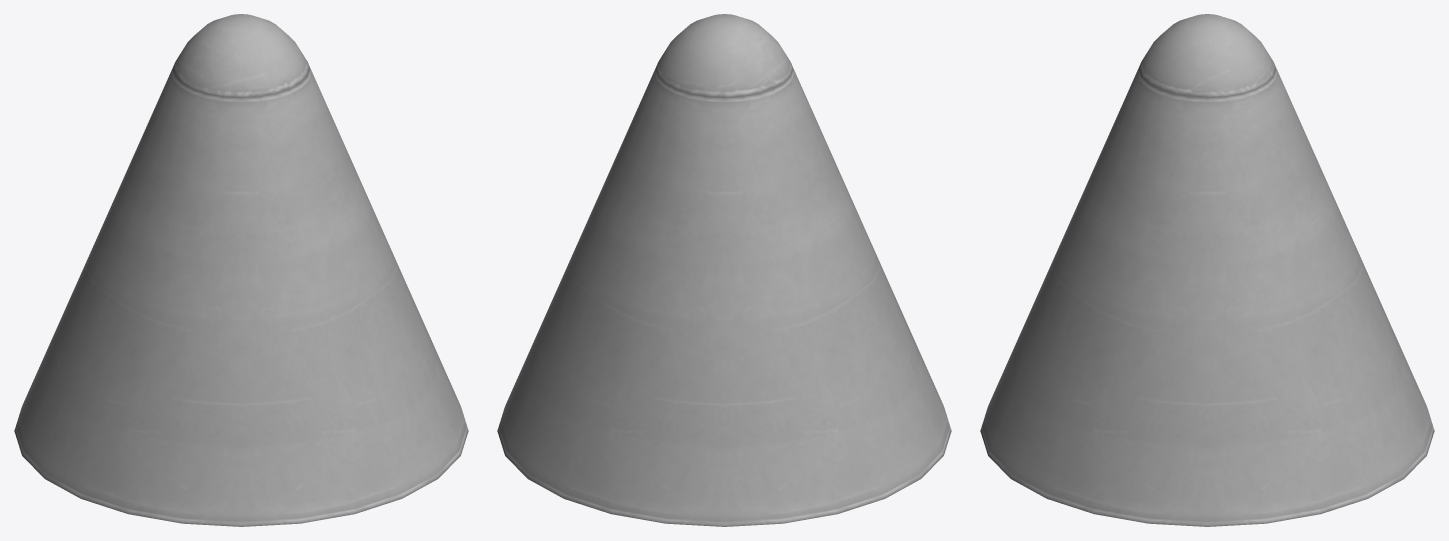
File: nose.obj
3 views of the same model, side by side, from view 1: azimuth 30°, elevation 25°; view 2: azimuth 150°, elevation 25°; view 3: azimuth 270°, elevation 25° (orthographic).
Visible parts, largest first — view 1: nose; view 2: nose; view 3: nose.
Part boxes in pixels (x1=…): nose: x1=14, y1=14, x2=468, y2=526; nose: x1=497, y1=14, x2=951, y2=526; nose: x1=980, y1=14, x2=1434, y2=526.
Size of the model in its own units: 1.25 by 1.25 by 1.25.
1 material, 1 textured.
